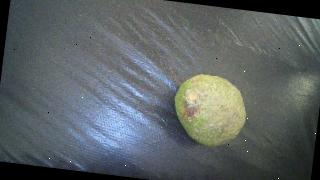DESECHO: (169, 71, 250, 150)
